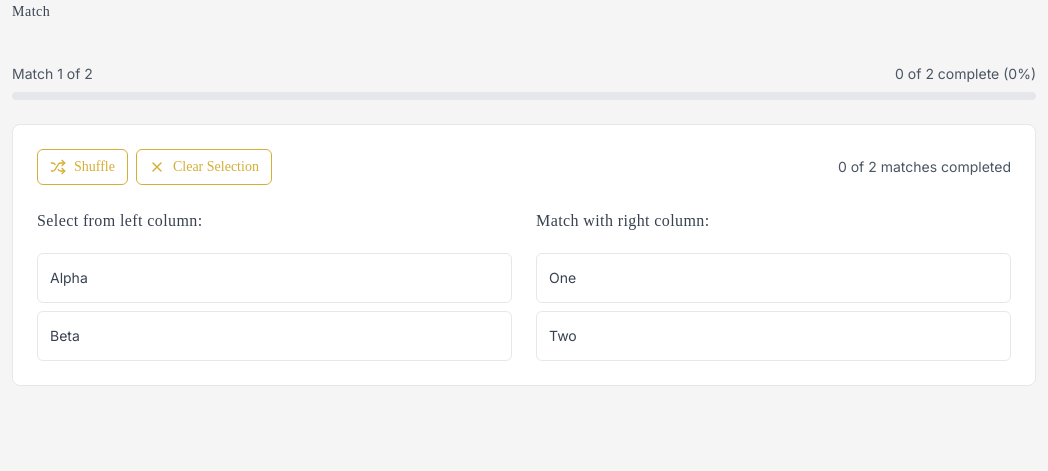
Test: exercise start over flow › does not let a stale matching timeout erase newer correct feedback
Click the button "Alpha" at (69, 278), box [37,253,512,303]
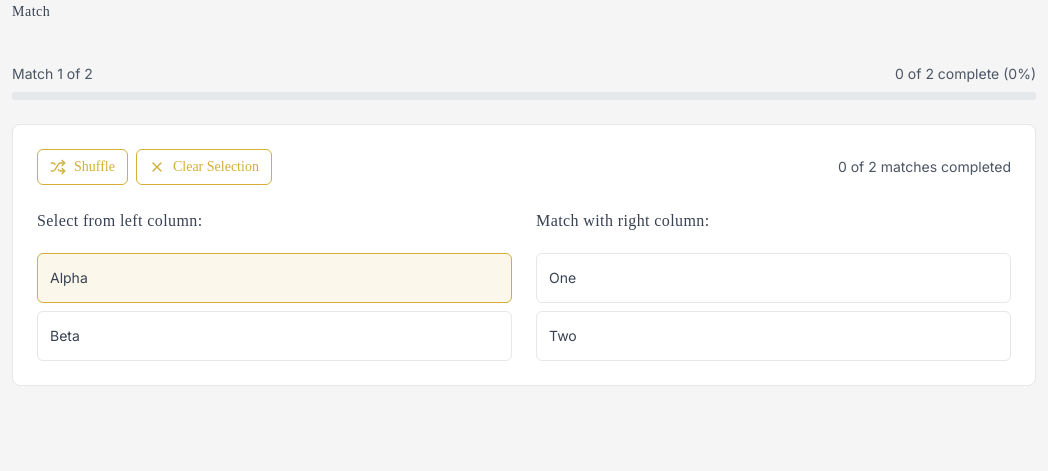
Click the button "Two" at (563, 336), box [536,311,1011,361]
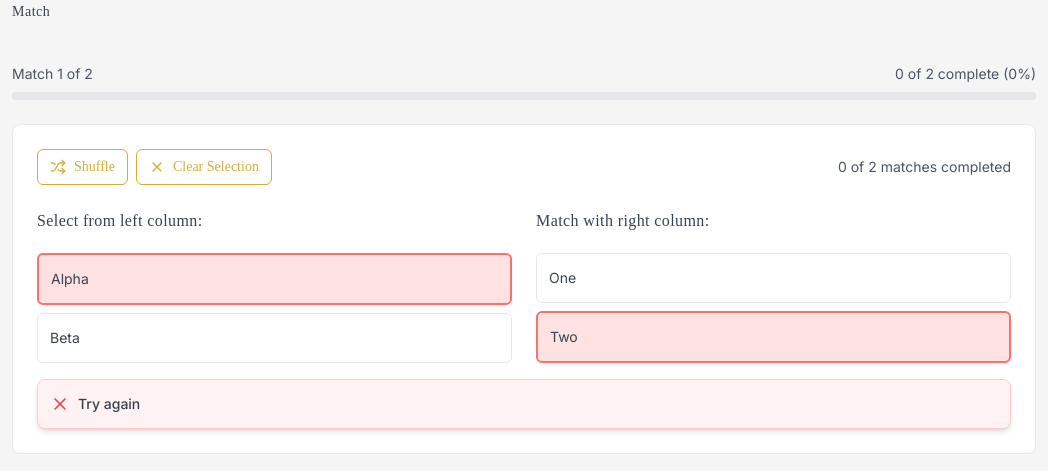
Click the button "One" at (563, 278), box [536,253,1011,303]
Wait 1500 ms
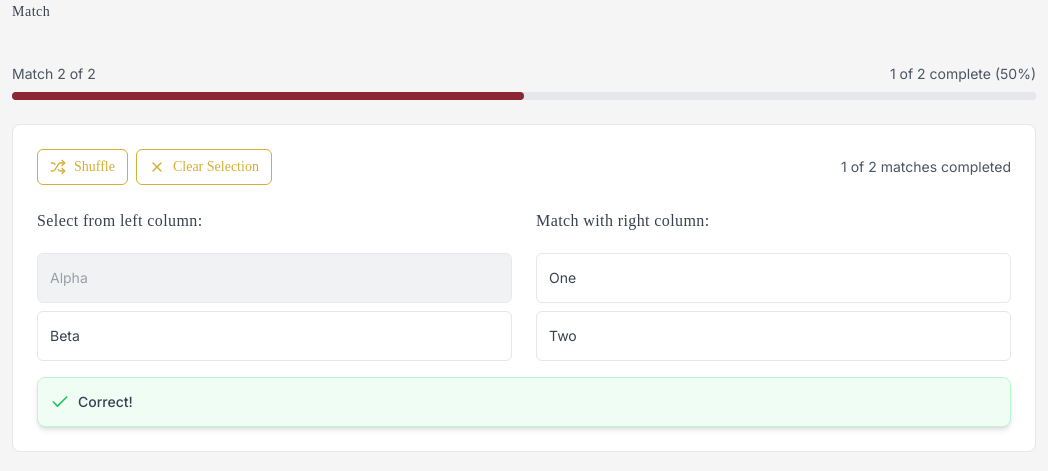
Check: the text "Correct!" is shown, box [78,393,133,410]
